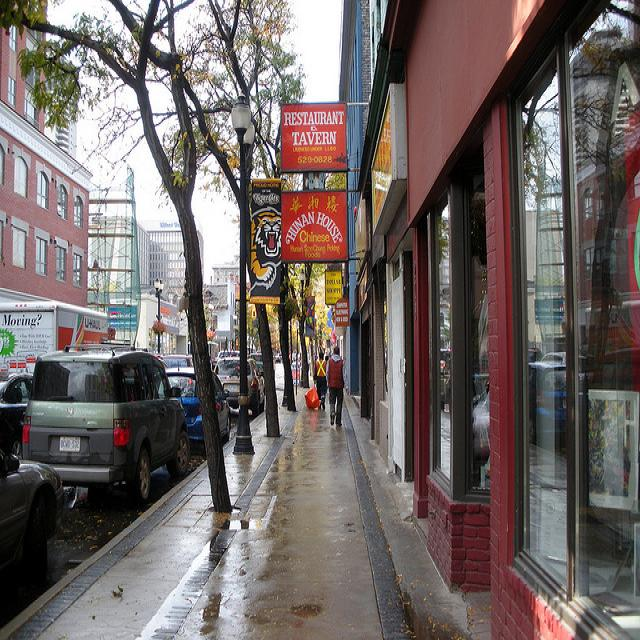Vehicle: (21, 343, 191, 512), (1, 454, 67, 590), (0, 306, 110, 382), (165, 366, 231, 455), (216, 356, 265, 414), (0, 373, 31, 458), (158, 354, 192, 369), (256, 361, 265, 380), (232, 349, 240, 358)
